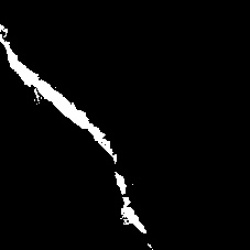crack: (1, 26, 147, 236)
